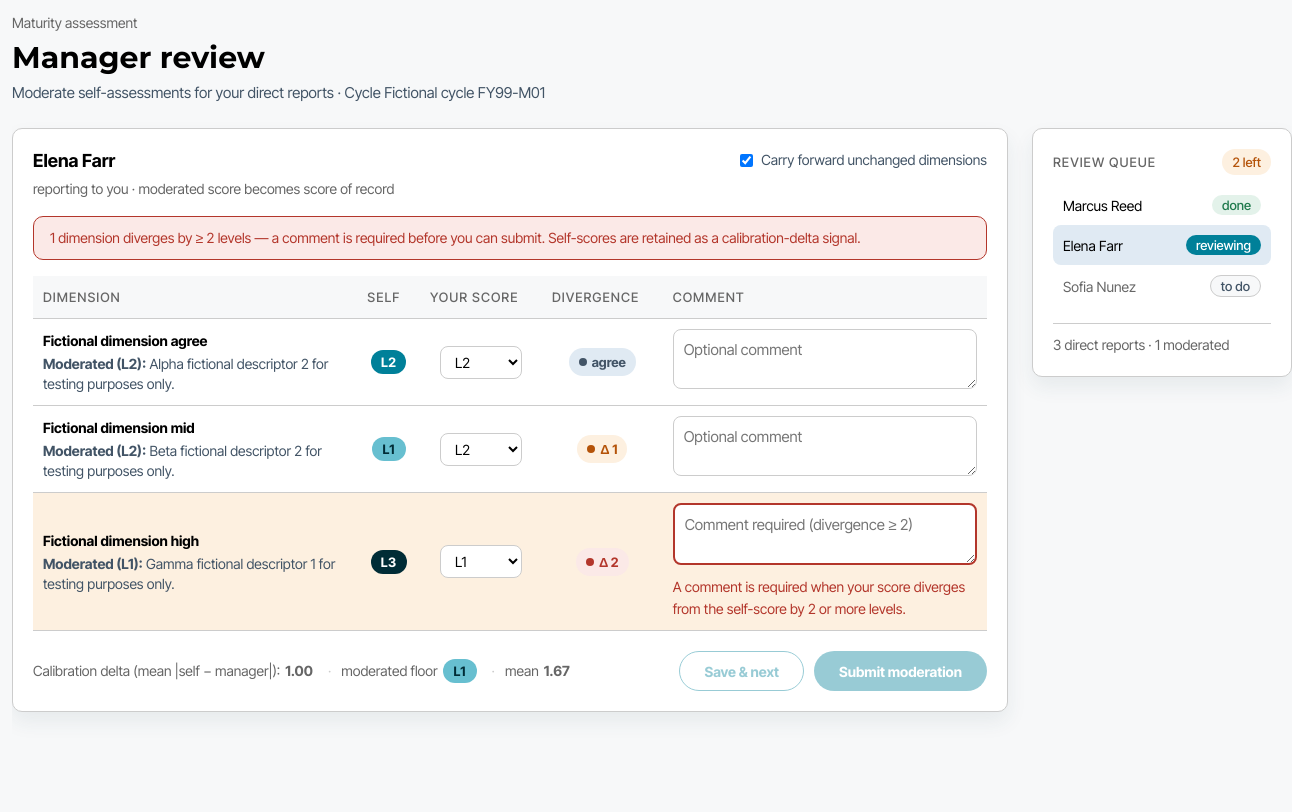
Test: AssessmentModerationScreen (HAP-9; FR-008/009/010/011/063/069) › forces a comment at divergence >= 2 and blocks submit until one is entered
Expected: the text "Fictional dimension high" is shown, [43, 532, 199, 548]
Expected: the text "Δ 2" is shown, [576, 548, 629, 576]
Type "Evidence reviewed — moderating from L3 self-score to L1." into the text box with placeholder "Comment required (divergence ≥ 2)" at (825,534), box [673, 503, 977, 565]
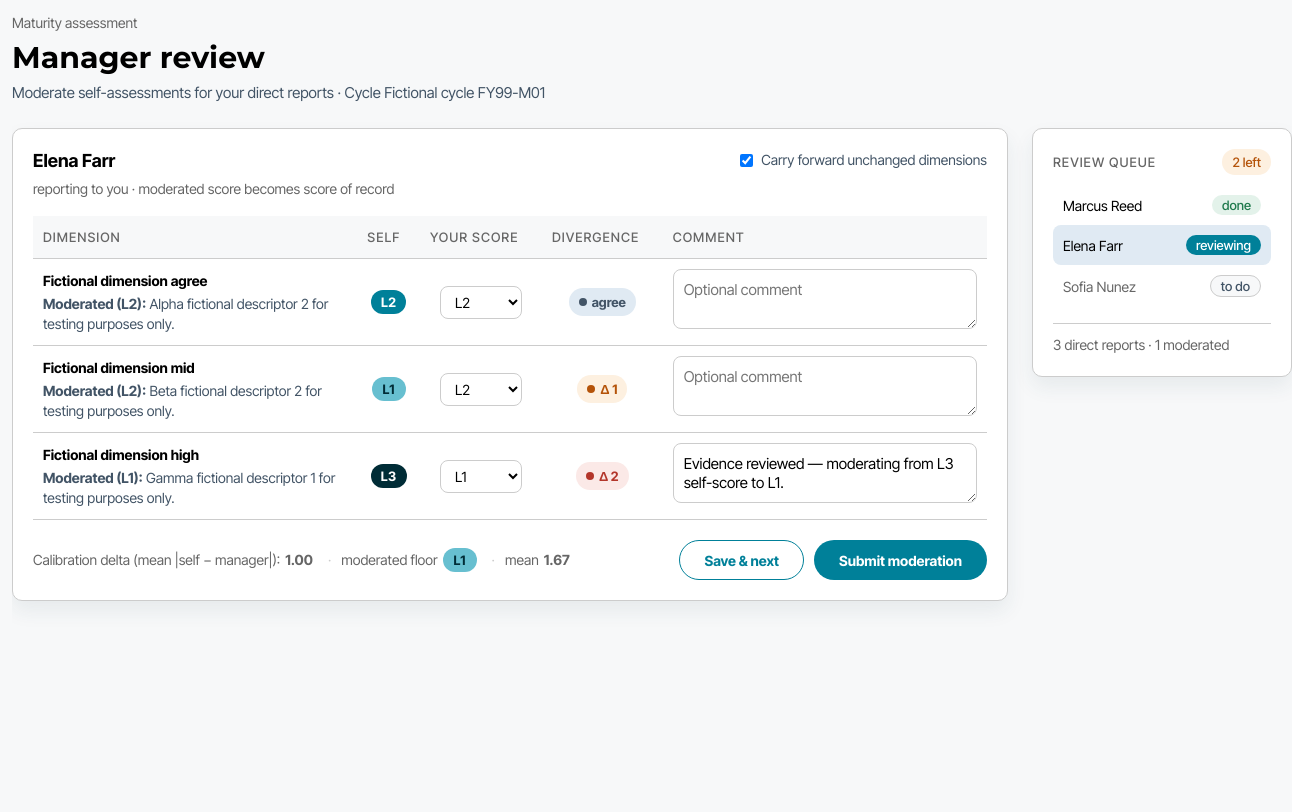
Expected: the button "Submit moderation" is enabled, [814, 540, 987, 580]
Expected: the text "A comment is required when your score diverges from the self-score by 2 or more levels." is gone
